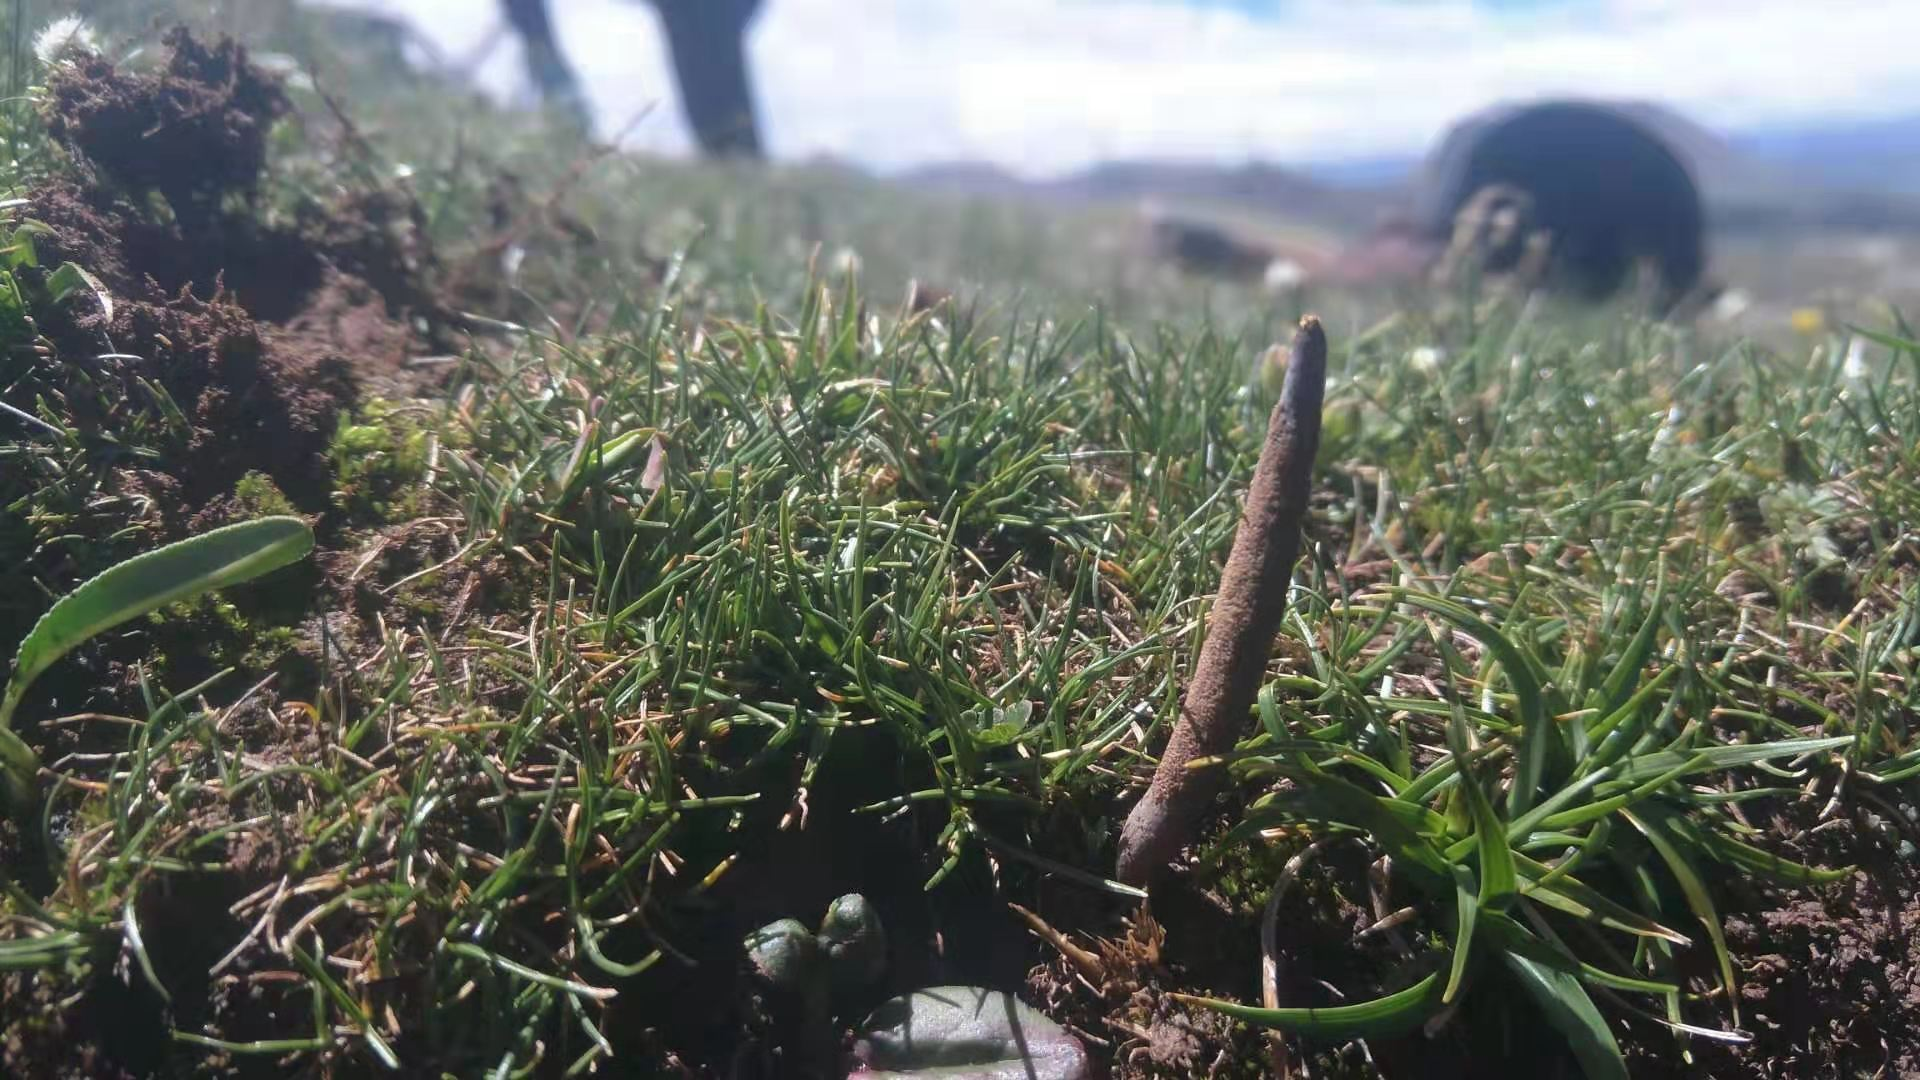Chongcao: (1112, 310, 1328, 872)
